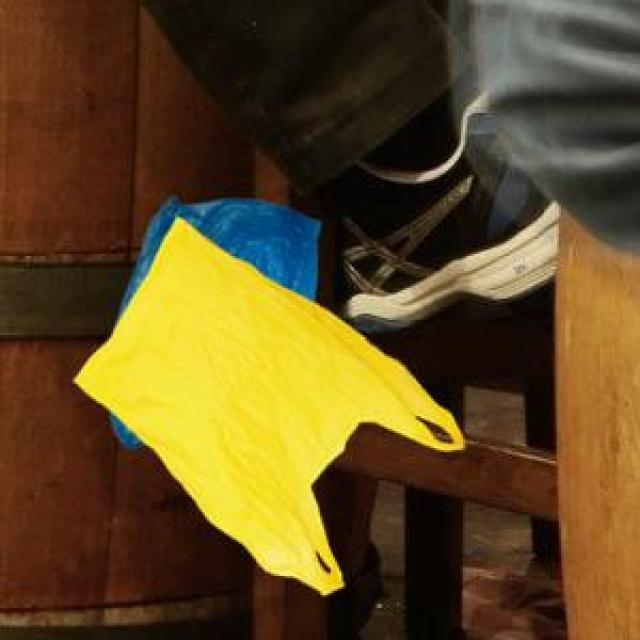plasticcover: (78, 210, 480, 608), (104, 181, 329, 477)
